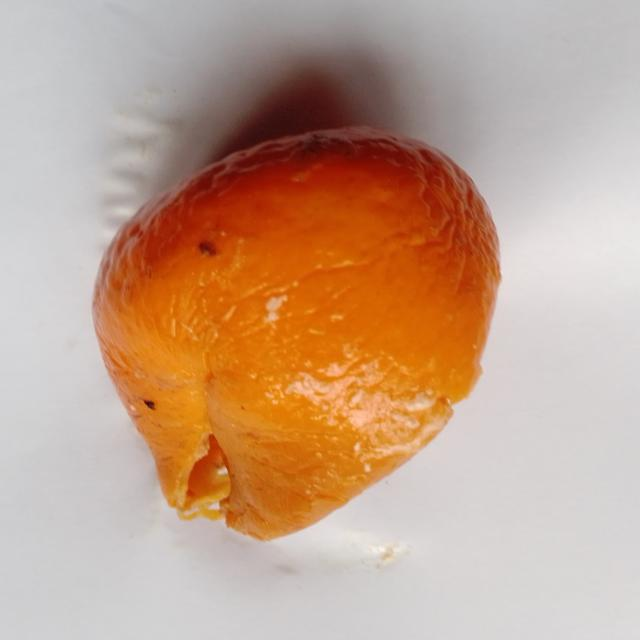orange: (94, 128, 499, 539)
